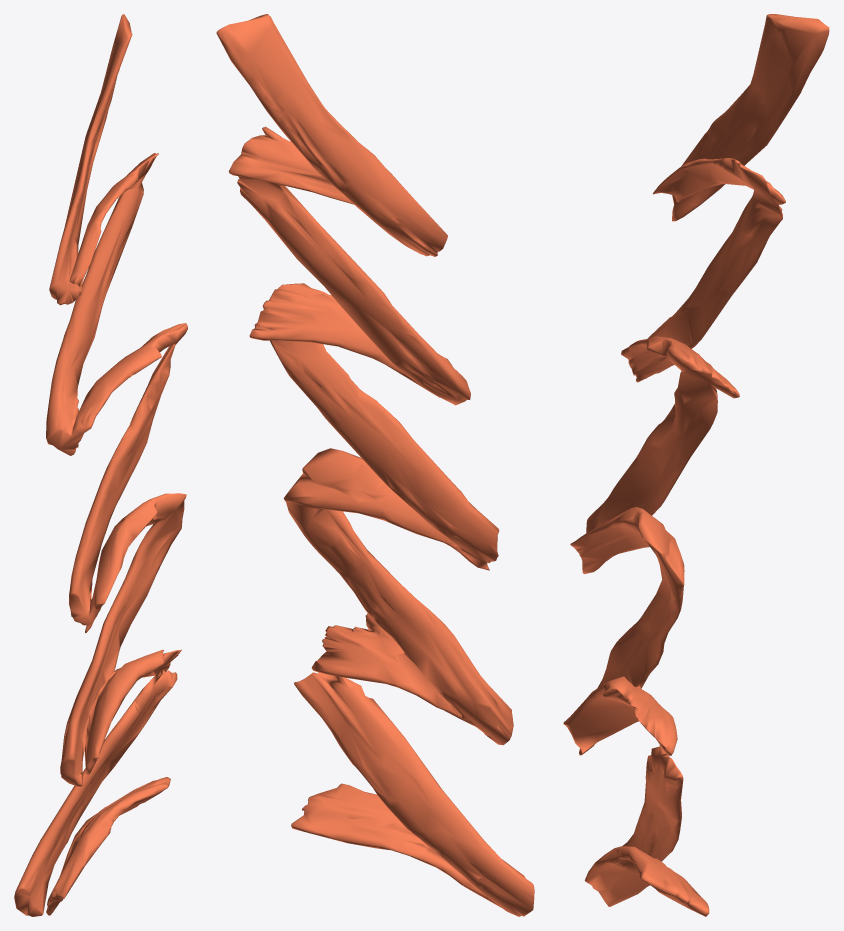
Rendered from Multifidus_lumborum.r_Generated_Mesh_From_X3D.343.glb.
3 renders of one model, left to right at view 1: azimuth 30°, elevation 25°; view 2: azimuth 150°, elevation 25°; view 3: azimuth 270°, elevation 25°, orthographic. The views are drawn at different scales.
Visible parts, largest first — view 1: Multifidus_lumborum.r_Generated_Mesh_From_X3D.343; view 2: Multifidus_lumborum.r_Generated_Mesh_From_X3D.343; view 3: Multifidus_lumborum.r_Generated_Mesh_From_X3D.343.
Boxes of the visible parts, x1,y1,x2,y2 form: Multifidus_lumborum.r_Generated_Mesh_From_X3D.343: [14, 14, 187, 916]; Multifidus_lumborum.r_Generated_Mesh_From_X3D.343: [216, 14, 534, 916]; Multifidus_lumborum.r_Generated_Mesh_From_X3D.343: [563, 14, 829, 916].
Size of the model in its own units: 0.0427 by 0.1614 by 0.0396.
